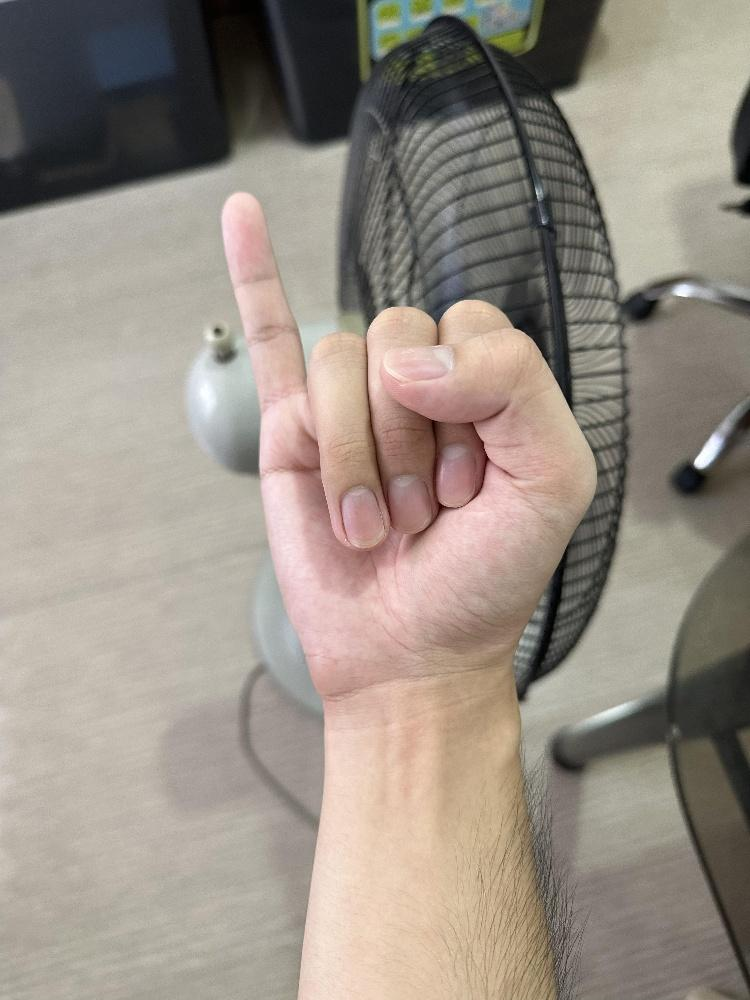i: (217, 186, 599, 702)
